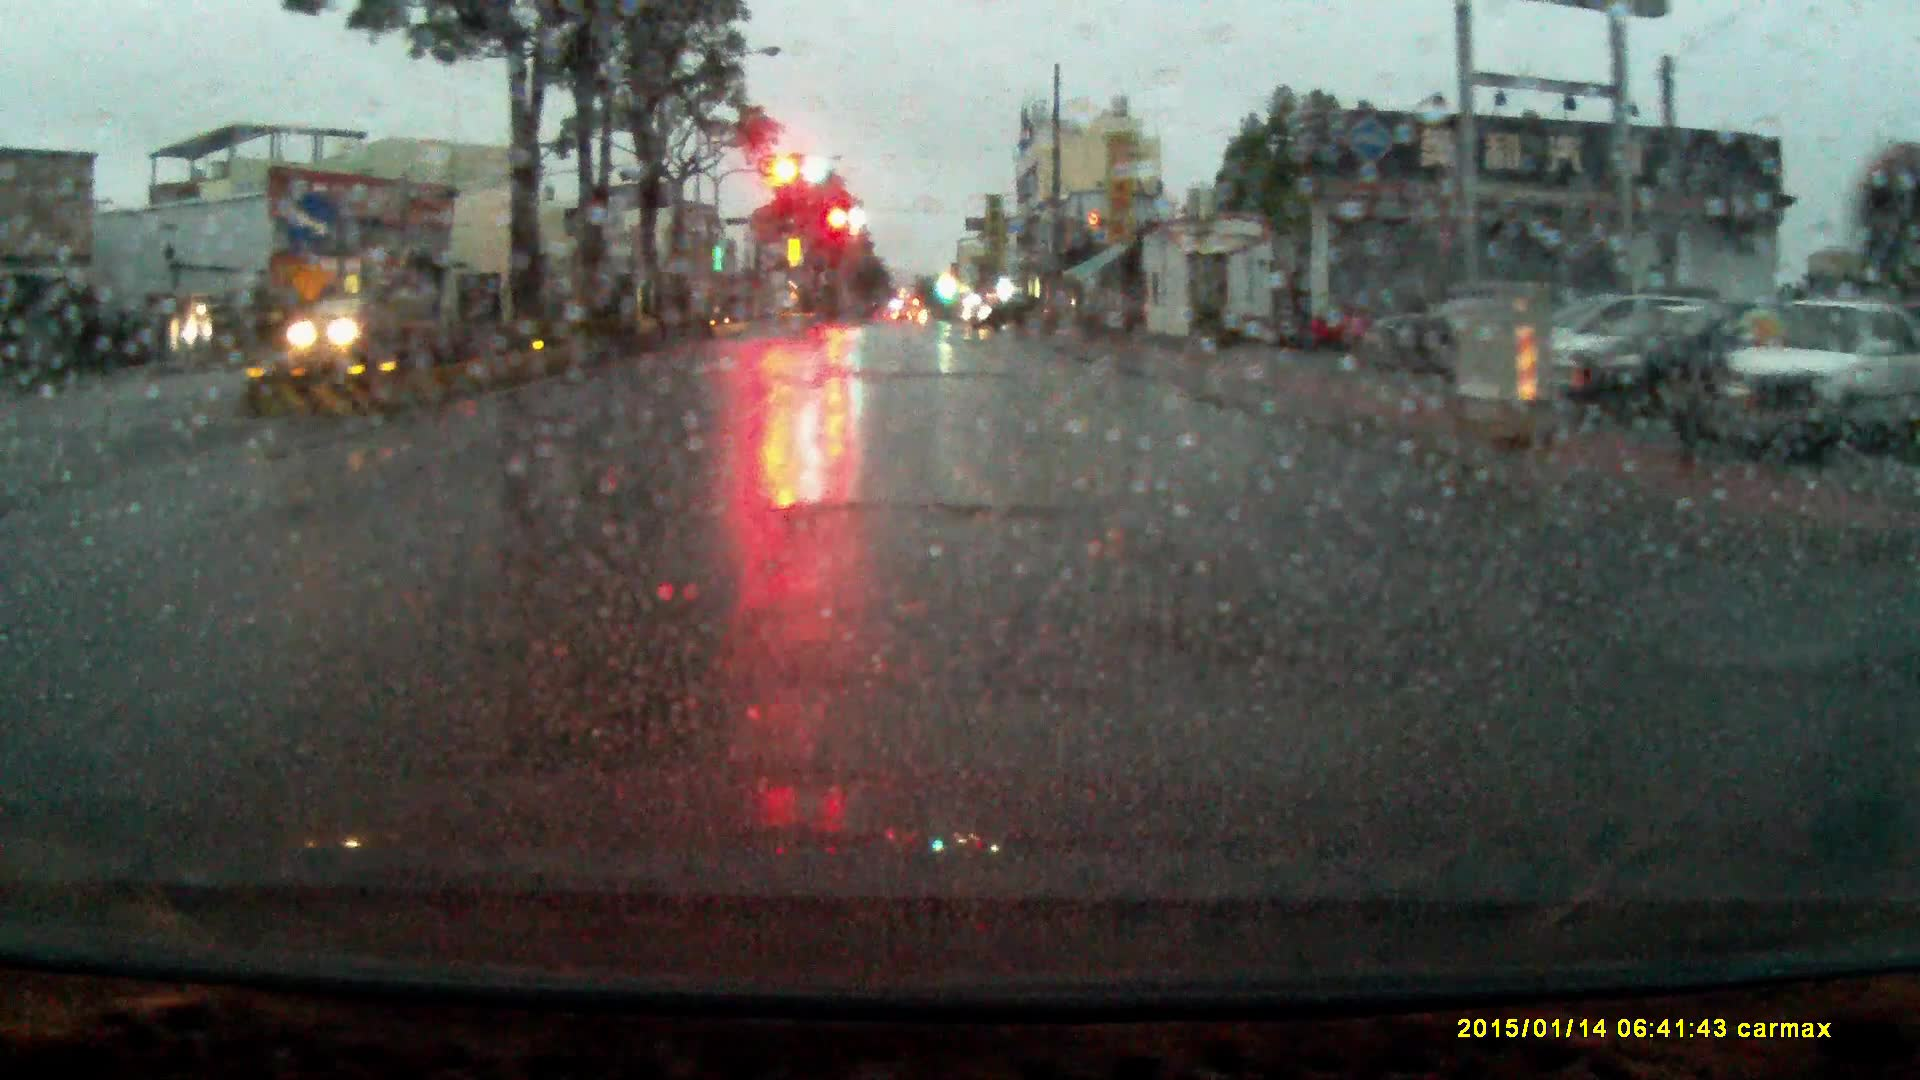vehicle: (1557, 298, 1782, 411), (1559, 295, 1750, 393), (1370, 290, 1487, 373), (289, 295, 393, 361), (963, 291, 1040, 328)
